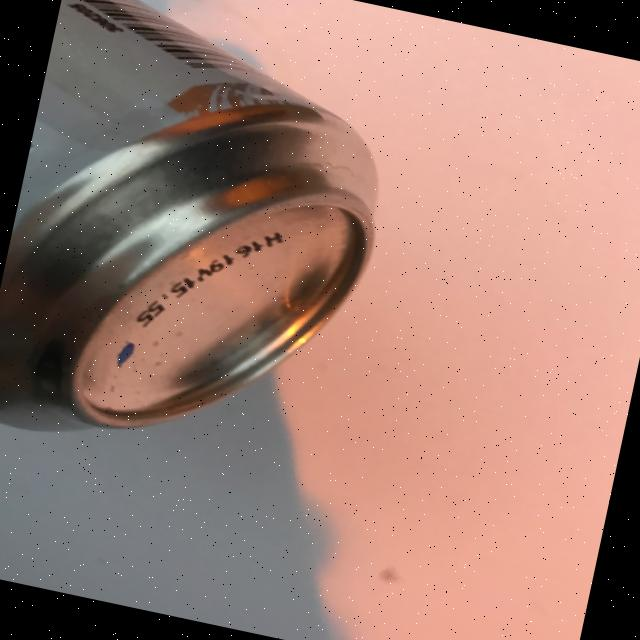metal: (0, 0, 419, 491)
